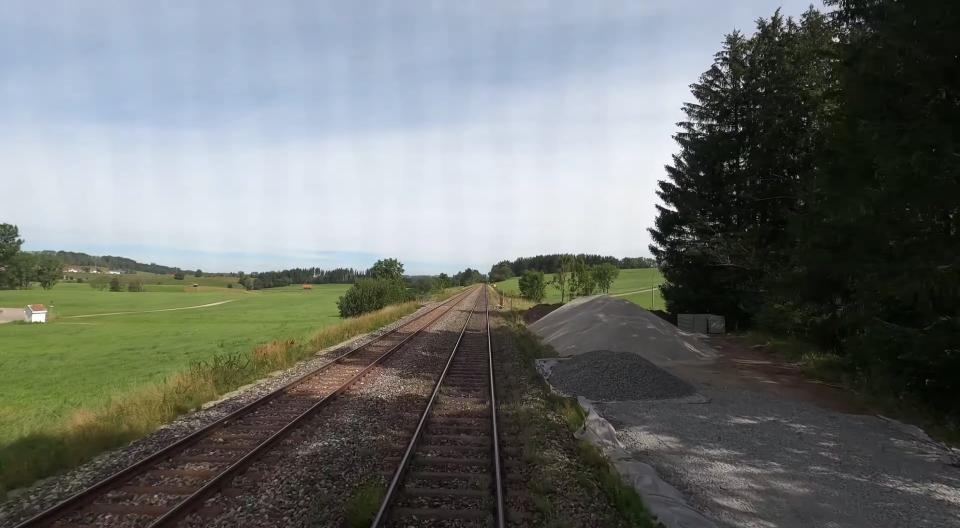Plant: (502, 312, 586, 432), (576, 441, 664, 528), (501, 345, 542, 466), (532, 471, 576, 528), (340, 486, 385, 528)
